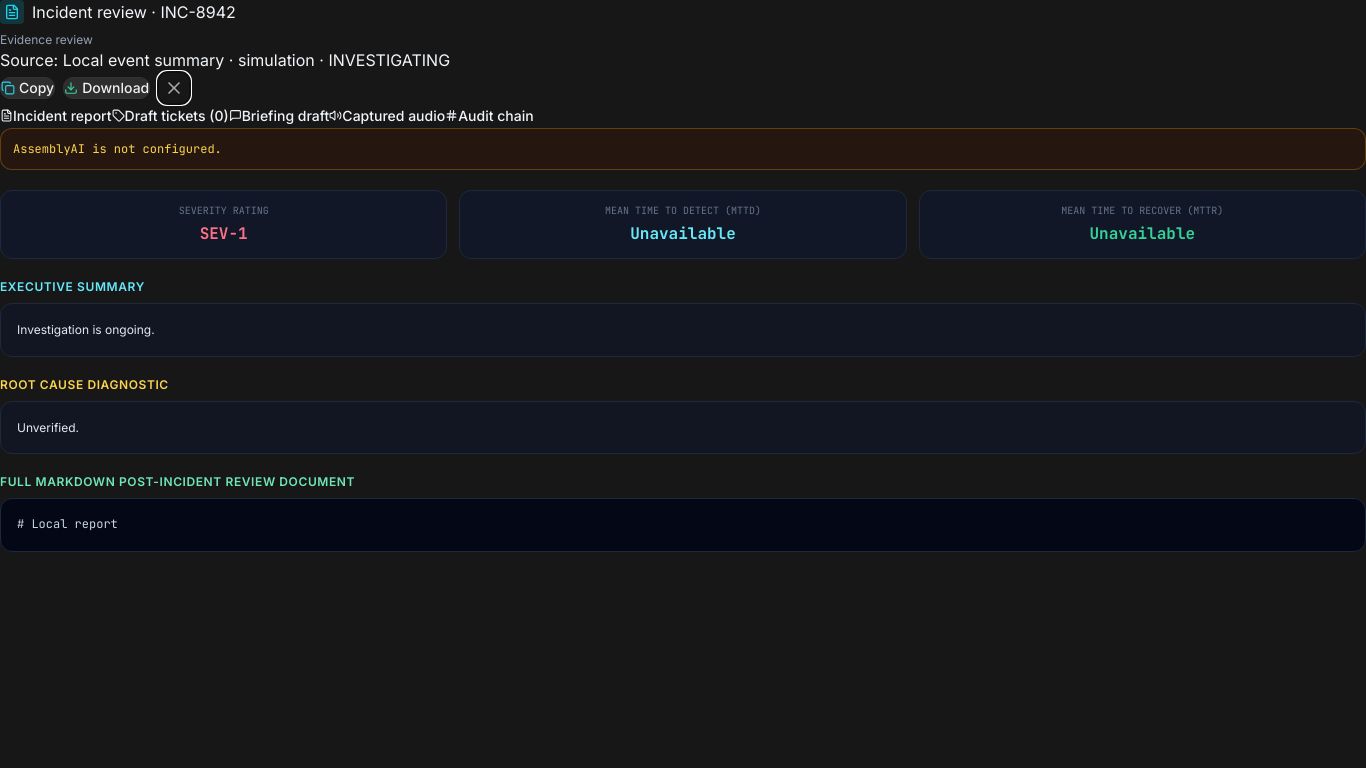
it: keeps empty local results empty instead of inventing tickets
Expected: the text "Source: Local event summary · simulation · INVESTIGATING" is shown, top-left (0, 50), bottom-right (450, 70)
What coordinates should you click on to do the following:
click the button "Draft tickets (0)"
I would click on:
 (170, 116)
Its box is top-left (112, 106), bottom-right (229, 126).
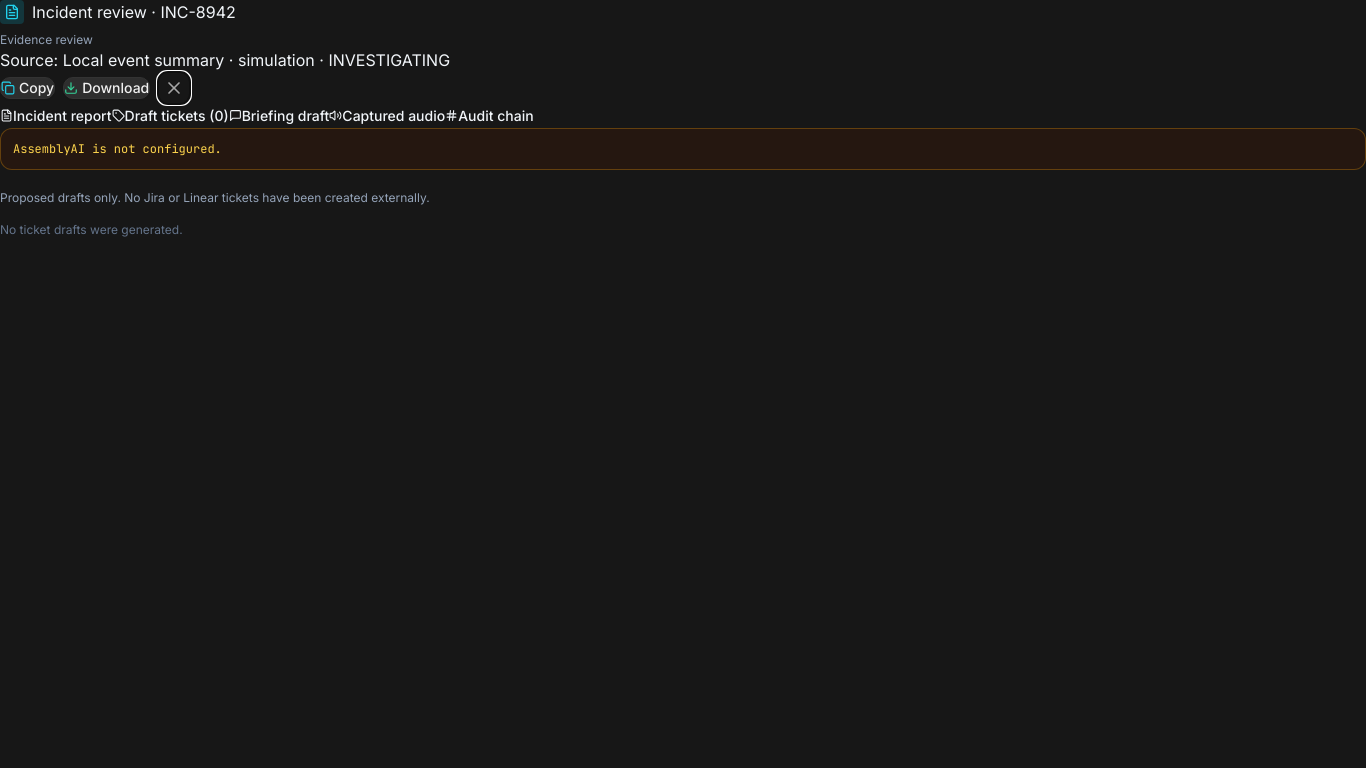
Expected: the text "No ticket drafts were generated." is shown, top-left (0, 222), bottom-right (183, 237)
